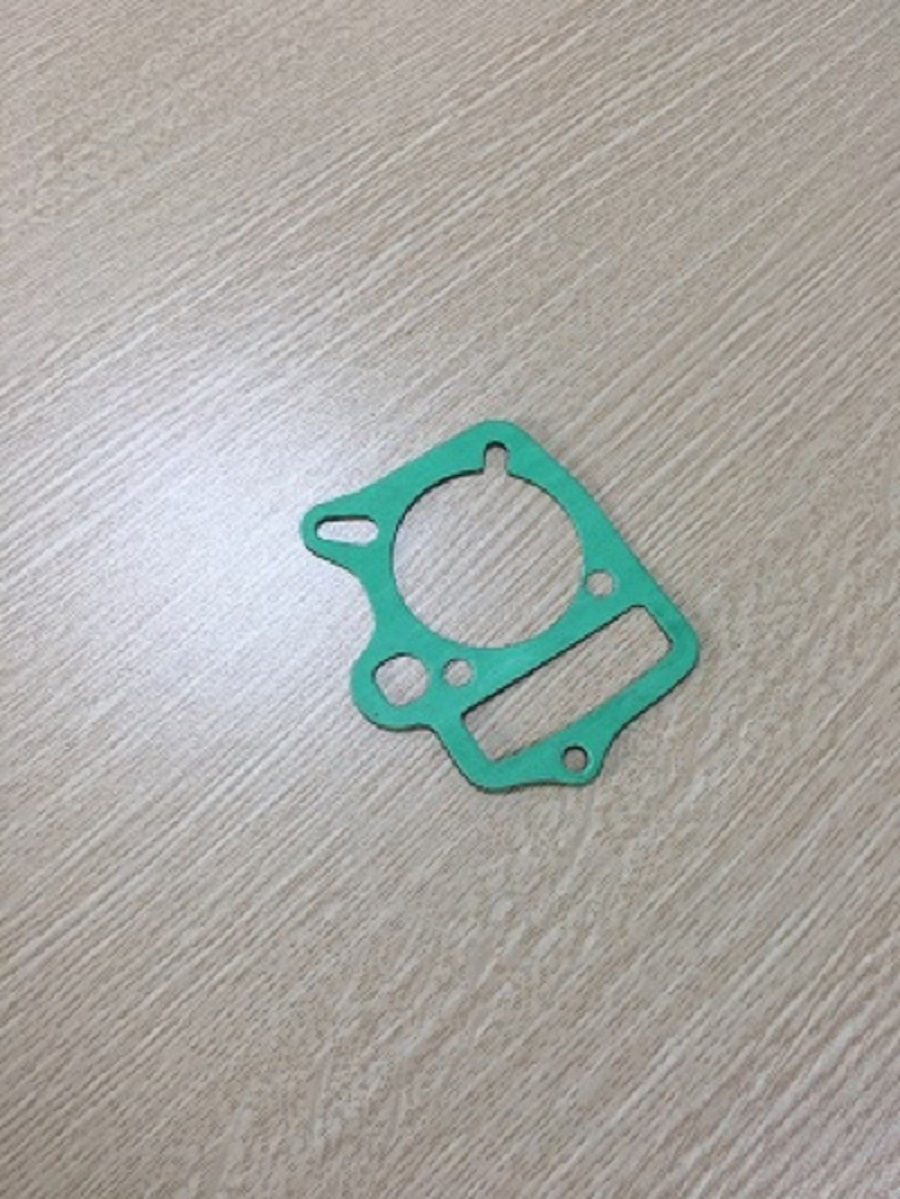circle 1: (383, 428, 598, 659)
circle 2: (352, 642, 447, 719)
circle 3: (287, 493, 394, 561)
circle 4: (576, 564, 623, 601)
circle 5: (547, 730, 609, 795)
circle 6: (447, 588, 699, 772)
object: (238, 386, 749, 873)
